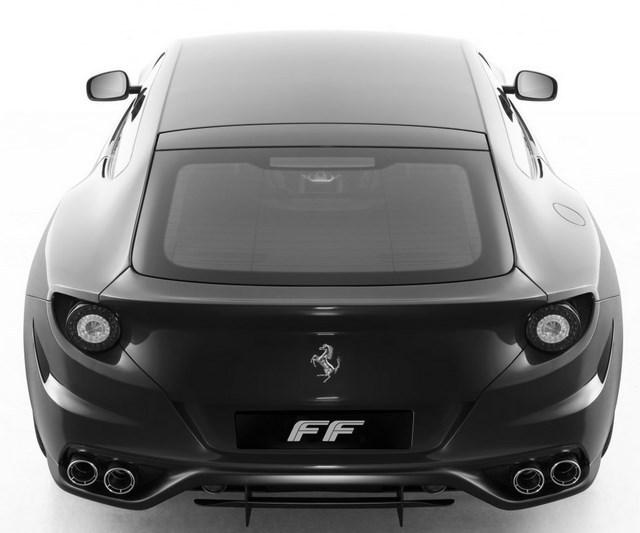car: (22, 30, 625, 531)
